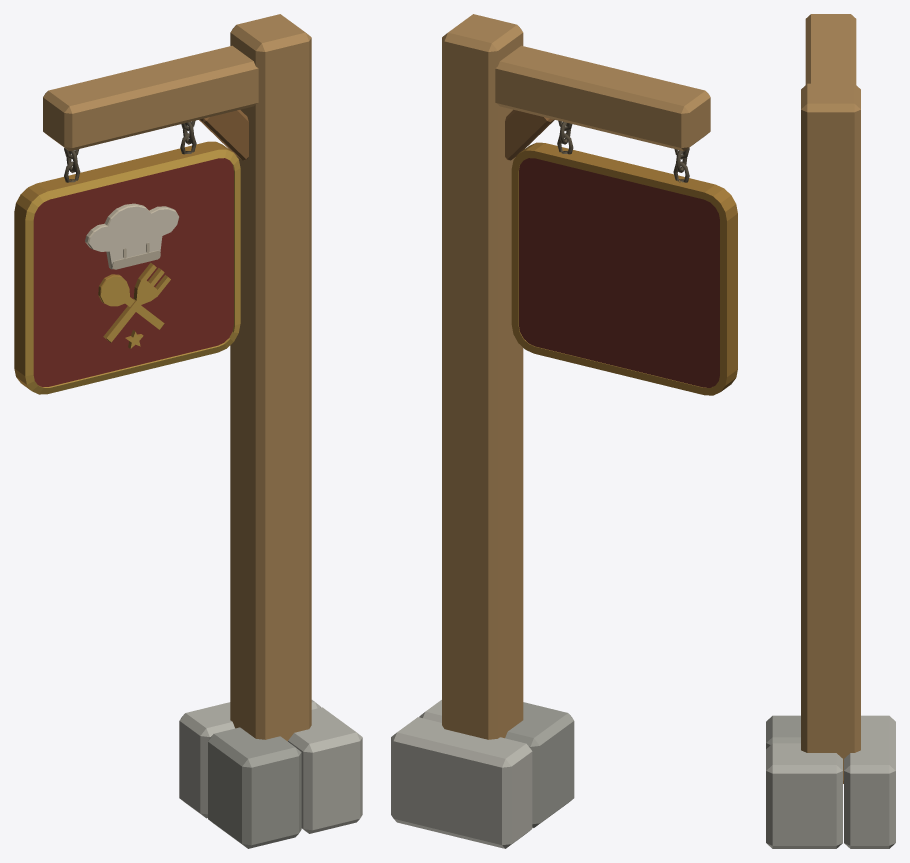
Rendered from chef_sign_b.glb.
3 views of the same model, side by side, from view 1: azimuth 30°, elevation 25°; view 2: azimuth 150°, elevation 25°; view 3: azimuth 270°, elevation 25° (orthographic). The views are drawn at different scales.
Parts seen in each view (by area): view 1: chef_sign_b; view 2: chef_sign_b; view 3: chef_sign_b.
Part boxes in pixels (<box>): chef_sign_b: <box>14,14,362,848</box>; chef_sign_b: <box>391,14,737,848</box>; chef_sign_b: <box>766,14,895,848</box>.
Size of the model in its own units: 0.722 by 1.74 by 0.28.
